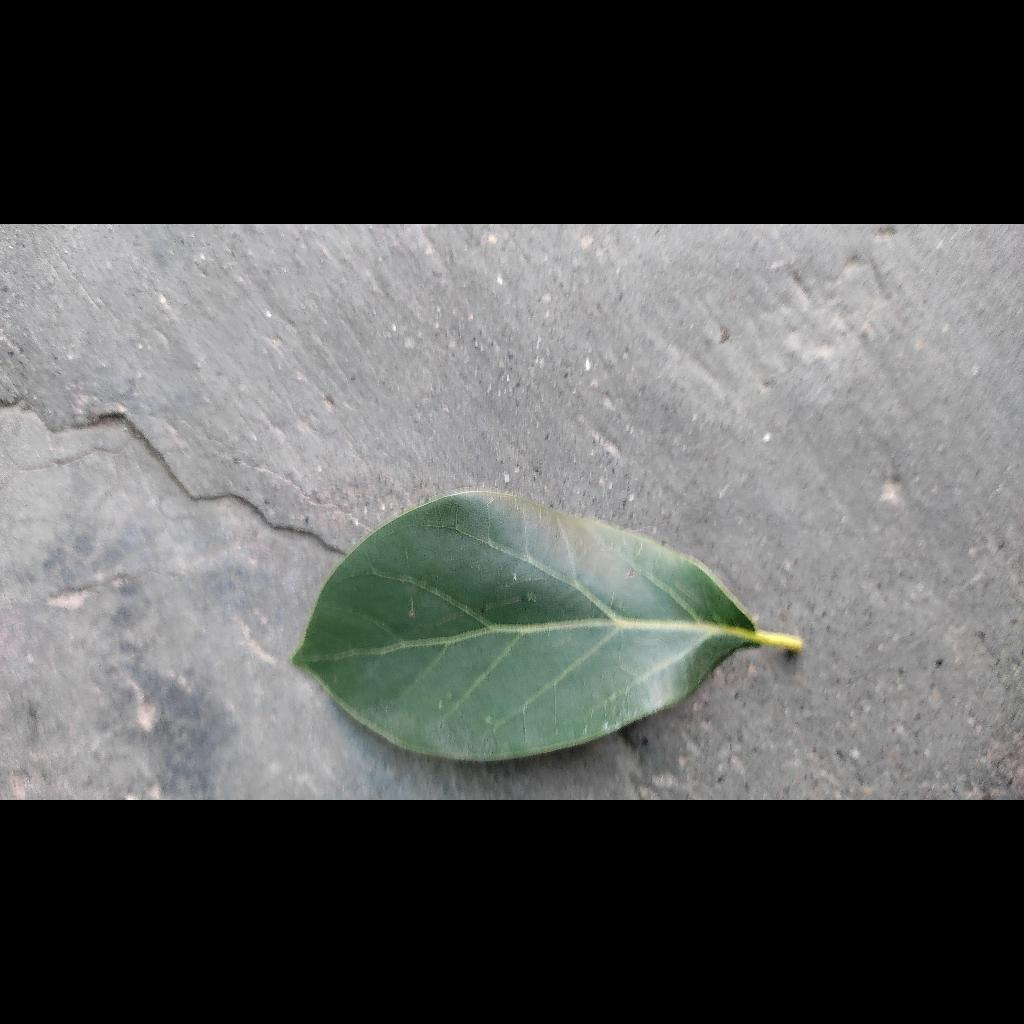hoja_sana: (293, 490, 802, 760)
